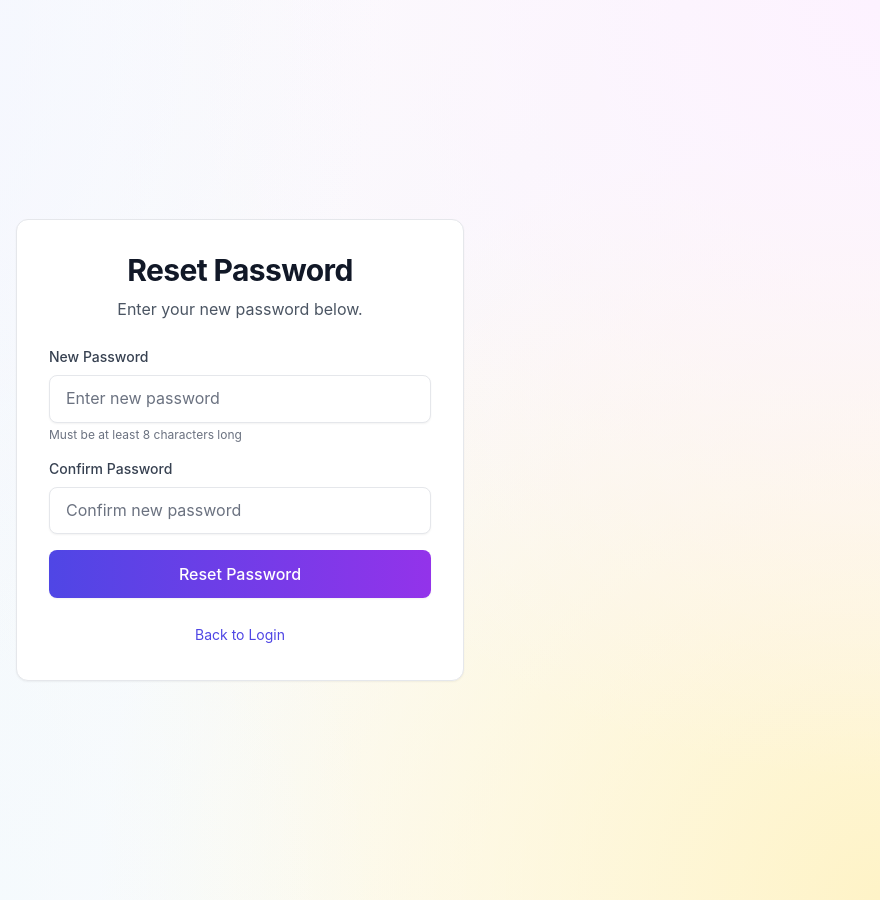
Test: Reset Password Page › should show error if passwords do not match
This screenshot has width=880, height=900.
Type "Password123!" into the password field with placeholder "Enter new password" at (240, 399), box x1=49 y1=375 x2=431 y2=423
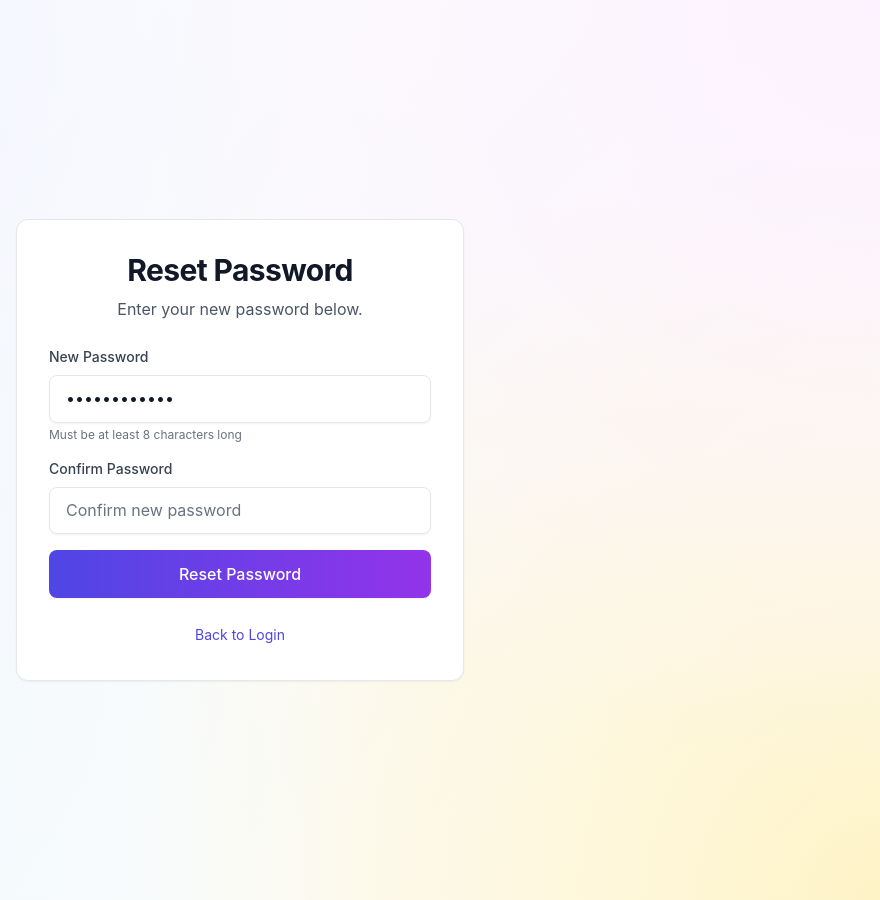
Type "Different123!" into the password field with placeholder "Confirm new password" at (240, 511), box x1=49 y1=487 x2=431 y2=534
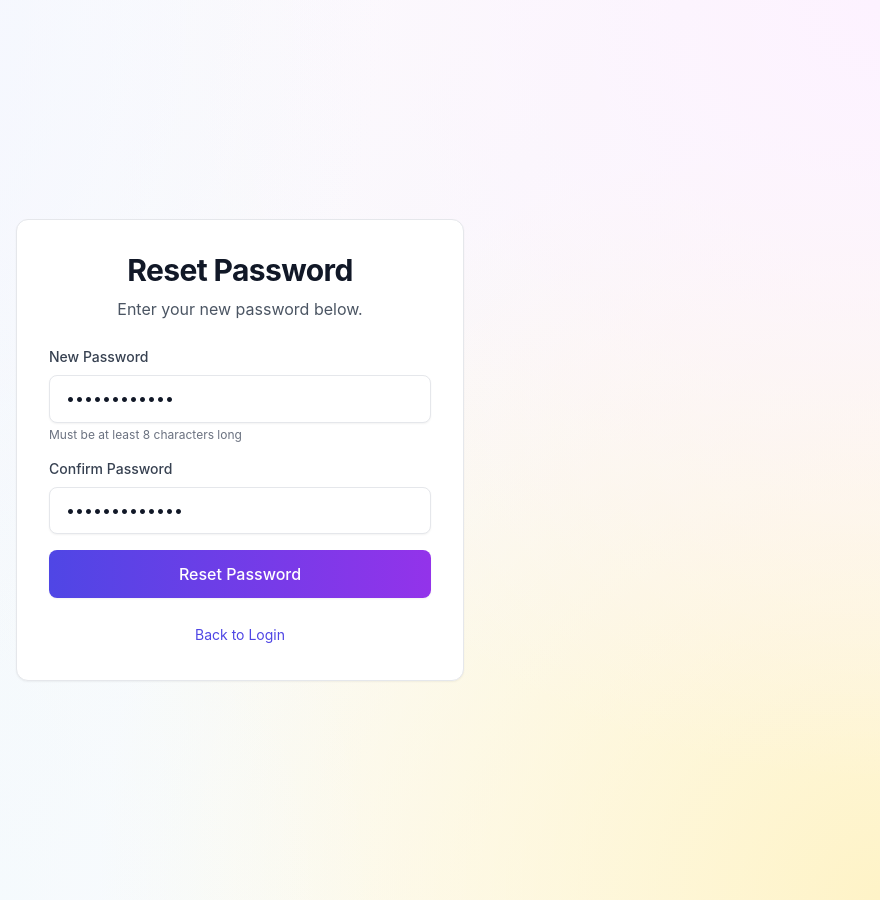
Click the button "Reset Password" at (240, 574), box x1=49 y1=550 x2=431 y2=598
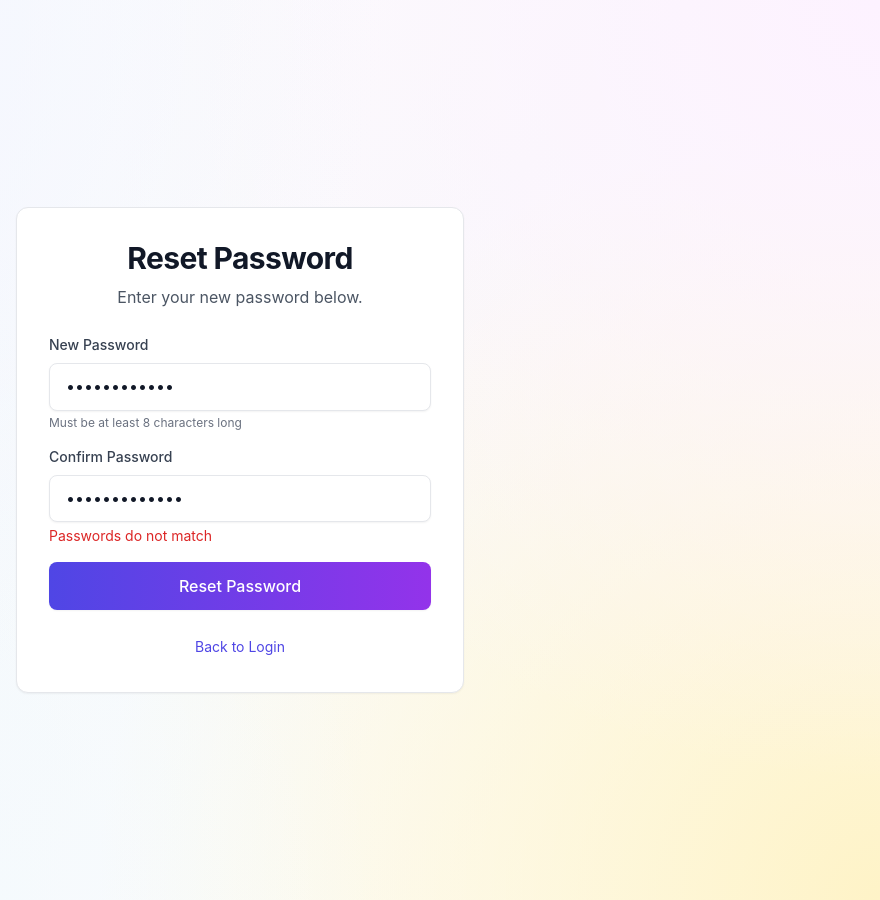
Expected: the text "Passwords do not match" is shown, x1=49 y1=527 x2=212 y2=544
